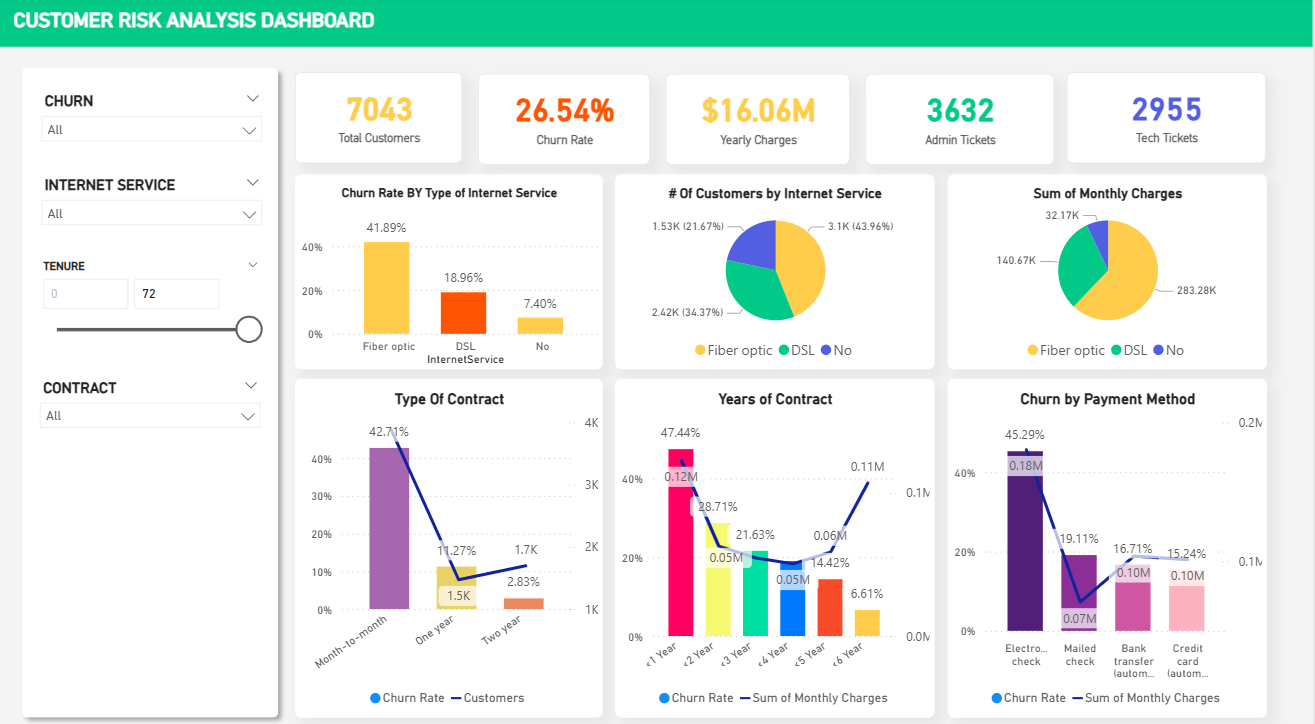

The dashboard page shown, as its layout file describes it:
{"tool":"powerbi","page":{"name":"Customer Risk Analysis","canvas":[1280,720],"ordinal":1},"visuals":[{"type":"shape","box":[0,0,1280,49],"z":0},{"type":"textbox","box":[21,8,438,33],"z":1000},{"type":"shape","box":[25,61,265,645],"z":2000},{"type":"slicer","fields":{"Values":["Churn.Churn"]},"box":[42,82,233,81],"z":3000},{"type":"slicer","fields":{"Values":["Churn.InternetService"]},"box":[42,163,233,81],"z":4000},{"type":"slicer","fields":{"Values":["Churn.tenure"]},"box":[41,244,233,97],"z":5000},{"type":"slicer","fields":{"Values":["Churn.Contract"]},"box":[41,360,233,81],"z":6000},{"type":"card","fields":{"Values":["CountNonNull(01 Churn-Dataset.customerID)"]},"box":[298,74,161,88],"z":7000},{"type":"card","fields":{"Values":["Churn.% Churn Rate"]},"box":[474,75,166,88],"z":8000},{"type":"card","fields":{"Values":["Sum(Churn.TotalCharges)"]},"box":[656,75,178,88],"z":9000},{"type":"card","fields":{"Values":["Sum(Churn.numAdminTickets)"]},"box":[848,75,182,88],"z":10000},{"type":"card","fields":{"Values":["Sum(Churn.numTechTickets)"]},"box":[1043,74,192,88],"z":11000},{"type":"columnChart","title":"Churn Rate BY Type of Internet Service","fields":{"Y":["Churn.% Churn Rate"],"Category":["Churn.InternetService"]},"box":[298,172,297,188],"z":12000},{"type":"pieChart","title":"# Of Customers by Internet Service","fields":{"Y":["CountNonNull(Churn.customerID)"],"Category":["Churn.InternetService"]},"box":[607,172,308,188],"z":13000},{"type":"pieChart","title":"Sum of Monthly Charges","fields":{"Category":["Churn.InternetService"],"Y":["Sum(Churn.MonthlyCharges)"]},"box":[927,172,308,188],"z":14000},{"type":"lineStackedColumnComboChart","title":"Type Of Contract","fields":{"Y2":["CountNonNull(Churn.customerID)"],"Y":["Churn.% Churn Rate"],"Category":["Churn.Contract"]},"box":[298,370,297,327],"z":15000},{"type":"lineStackedColumnComboChart","title":"Years of Contract","fields":{"Y":["Churn.% Churn Rate"],"Y2":["Sum(Churn.MonthlyCharges)"],"Category":["Churn.Tenure(in years)"]},"box":[607,370,308,327],"z":16000},{"type":"lineStackedColumnComboChart","title":"Churn by Payment Method","fields":{"Y":["Churn.% Churn Rate"],"Y2":["Sum(Churn.MonthlyCharges)"],"Category":["Churn.PaymentMethod"]},"box":[927,370,308,327],"z":17000}]}

Visuals, with their boxes in screenshot pixels (x1, y1, x2, y2), scaled from the page's 1280x720 canvas onto the 1315x724 screenshot:
shape: <region>0, 0, 1314, 49</region>
textbox: <region>22, 8, 472, 41</region>
shape: <region>26, 61, 298, 710</region>
slicer - Churn.Churn: <region>43, 82, 283, 164</region>
slicer - Churn.InternetService: <region>43, 164, 283, 245</region>
slicer - Churn.tenure: <region>42, 245, 281, 343</region>
slicer - Churn.Contract: <region>42, 362, 281, 443</region>
card - CountNonNull(01 Churn-Dataset.customerID): <region>306, 74, 472, 163</region>
card - Churn.% Churn Rate: <region>487, 75, 658, 164</region>
card - Sum(Churn.TotalCharges): <region>674, 75, 857, 164</region>
card - Sum(Churn.numAdminTickets): <region>871, 75, 1058, 164</region>
card - Sum(Churn.numTechTickets): <region>1072, 74, 1269, 163</region>
"Churn Rate BY Type of Internet Service" columnChart: <region>306, 173, 611, 362</region>
"# Of Customers by Internet Service" pieChart: <region>624, 173, 940, 362</region>
"Sum of Monthly Charges" pieChart: <region>952, 173, 1269, 362</region>
"Type Of Contract" lineStackedColumnComboChart: <region>306, 372, 611, 701</region>
"Years of Contract" lineStackedColumnComboChart: <region>624, 372, 940, 701</region>
"Churn by Payment Method" lineStackedColumnComboChart: <region>952, 372, 1269, 701</region>
